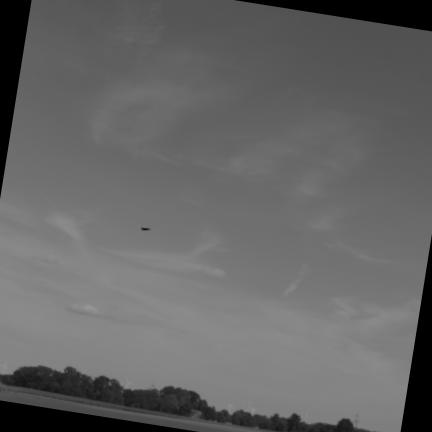Shahed: (141, 227, 150, 230)
